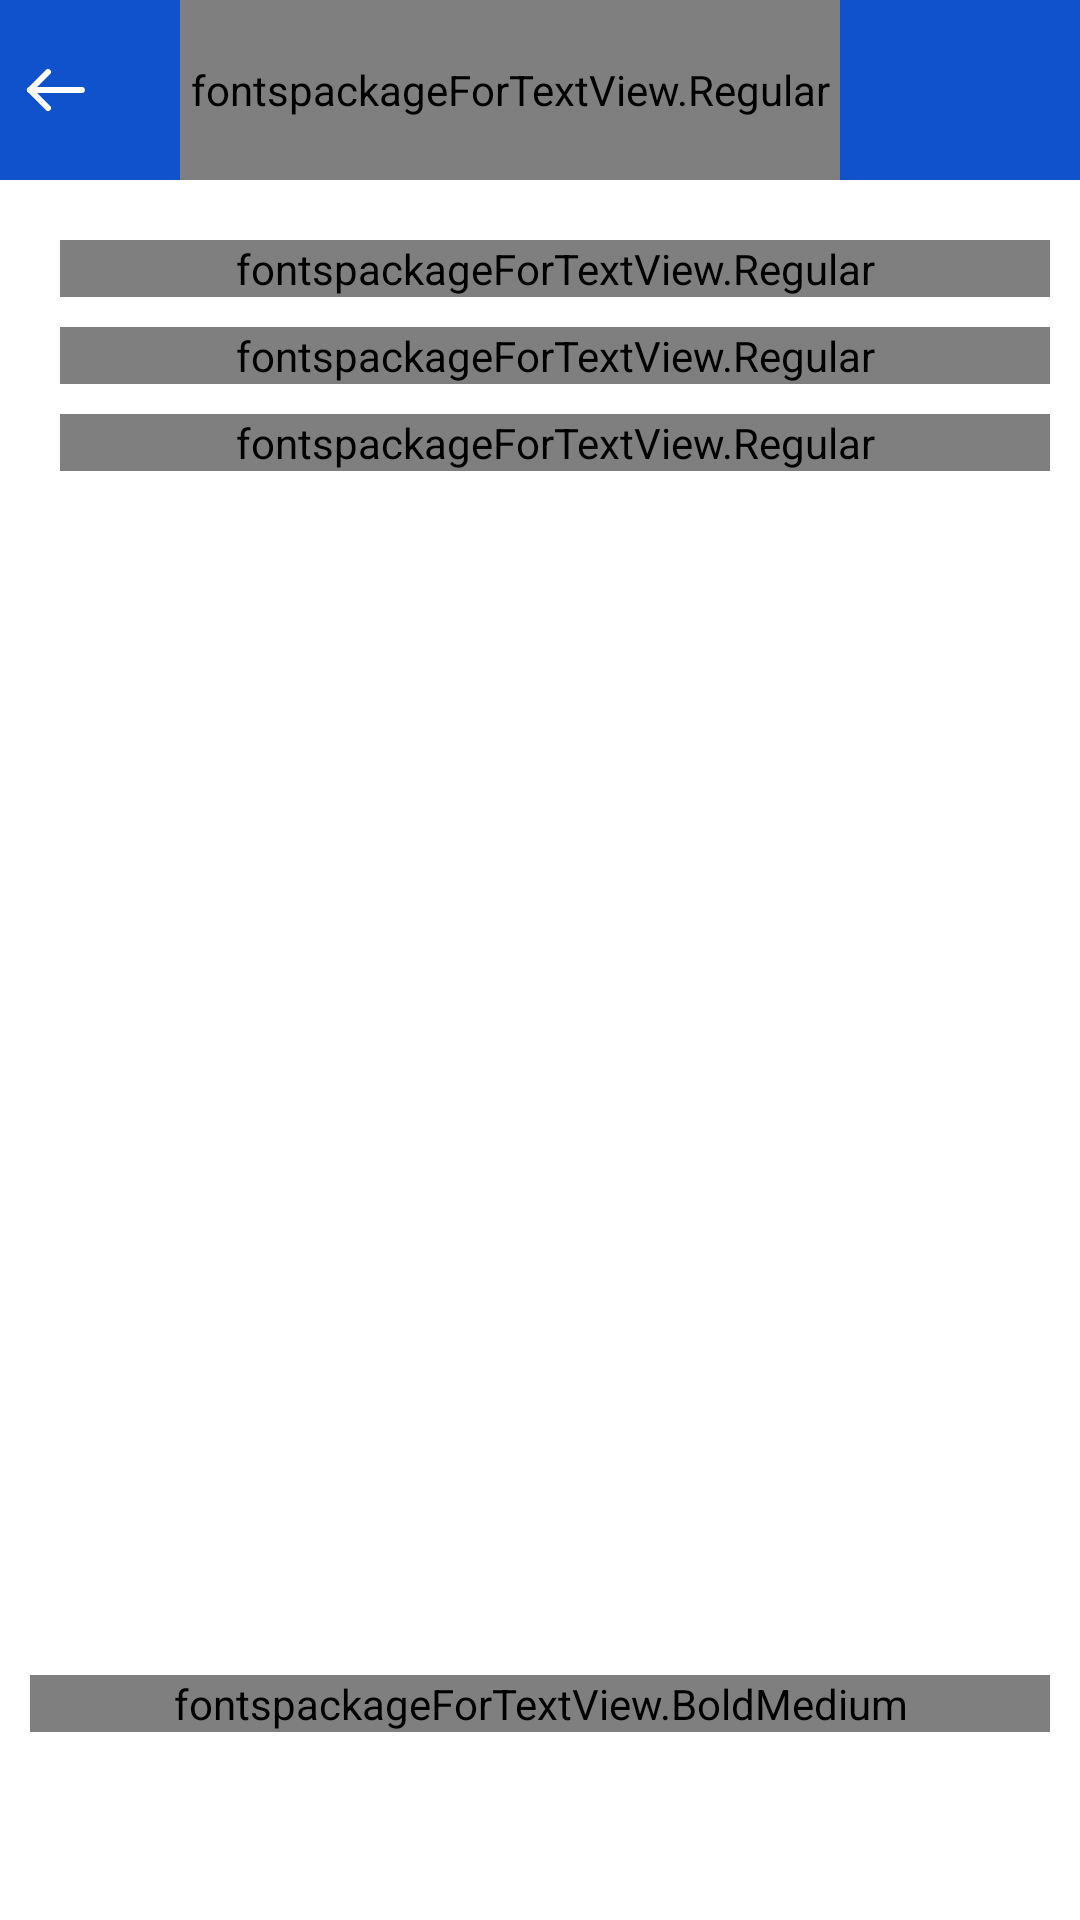

Icon click points for this 1080x1920 phone screenshot, format (x=x, y=y):
back: (x=56, y=90)
